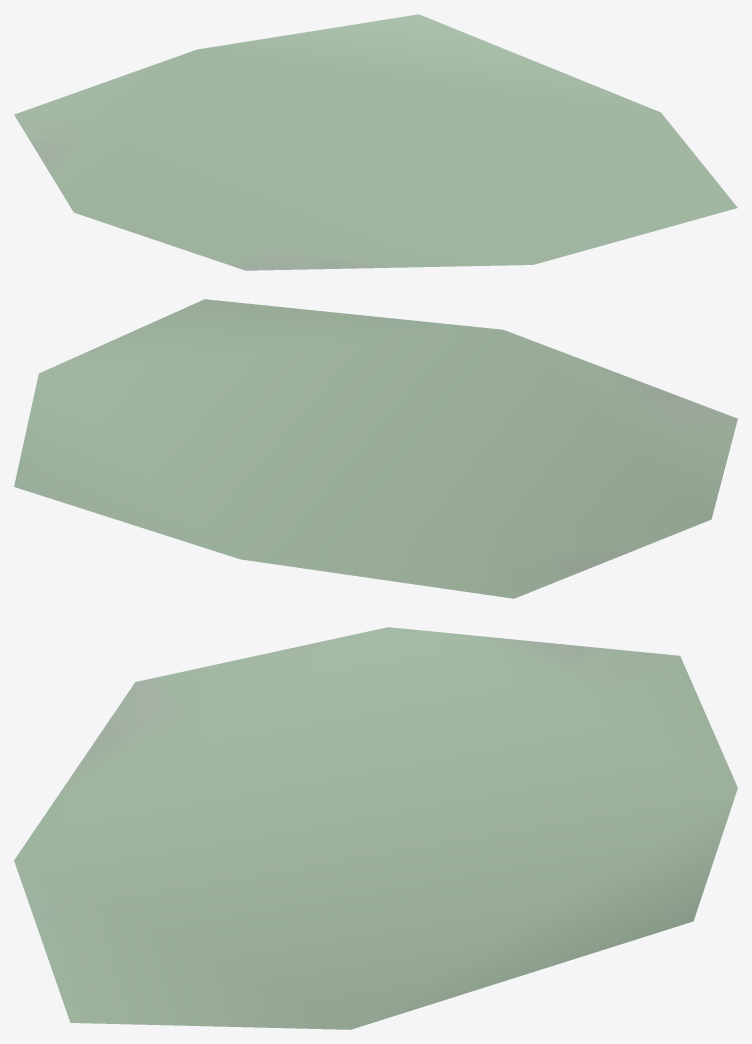
The model's file is TROLLHOLE02_HOLECAP195.fbx.
3 renders of one model, top to bottom at view 1: azimuth 30°, elevation 25°; view 2: azimuth 150°, elevation 25°; view 3: azimuth 270°, elevation 25°, orthographic. The views are drawn at different scales.
Parts seen in each view (by area): view 1: TROLLHOLE02_HOLECAP195; view 2: TROLLHOLE02_HOLECAP195; view 3: TROLLHOLE02_HOLECAP195.
Boxes of the visible parts, left/top/right/bottom form: TROLLHOLE02_HOLECAP195: left=14, top=14, right=737, bottom=270; TROLLHOLE02_HOLECAP195: left=14, top=299, right=737, bottom=598; TROLLHOLE02_HOLECAP195: left=14, top=627, right=737, bottom=1029.
Size of the model in its own units: 14882 by 1042 by 12482.
Materials: 1 (1 with a texture image).
